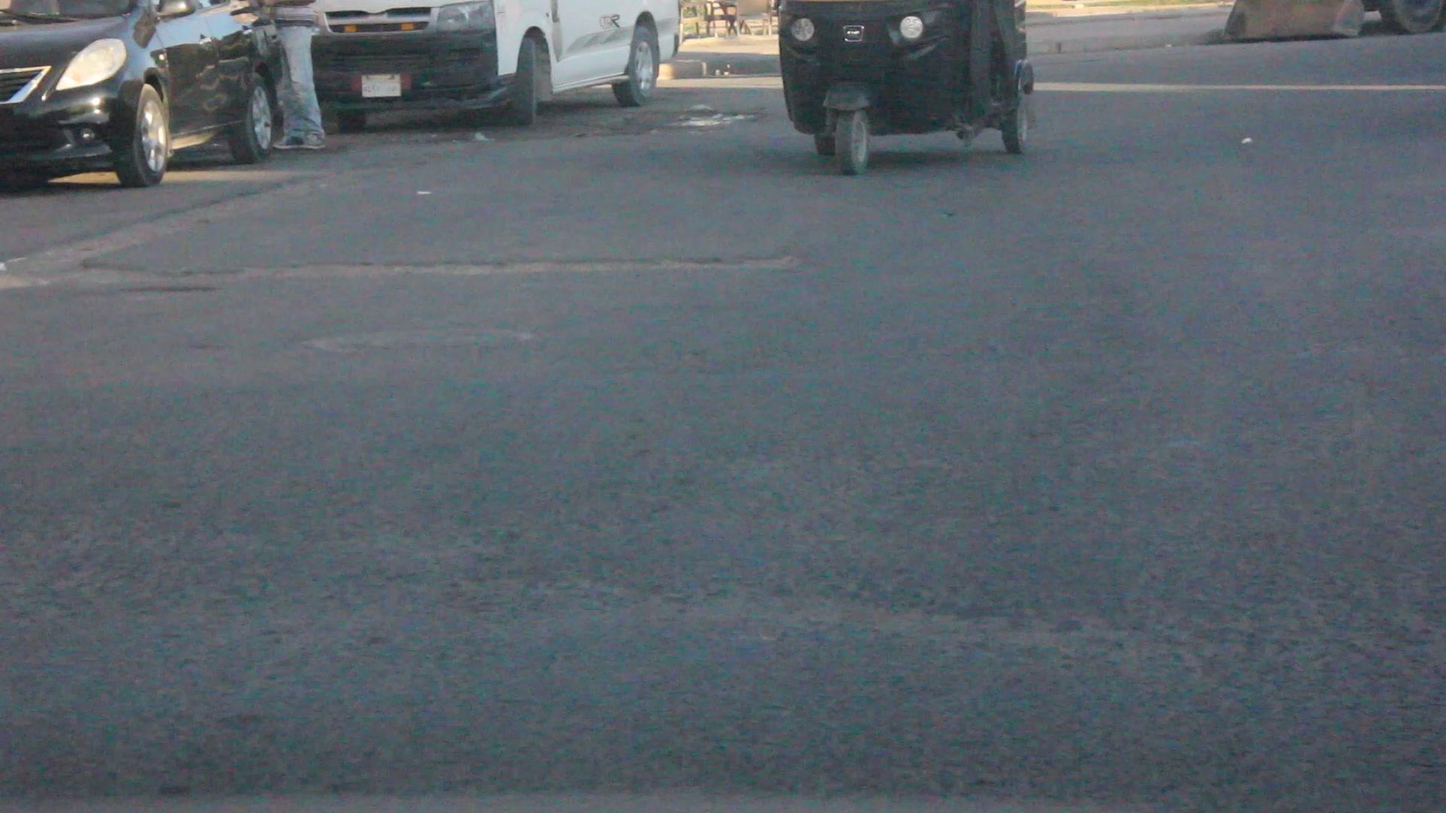Pothole: (62, 233, 813, 269), (612, 87, 763, 171)
